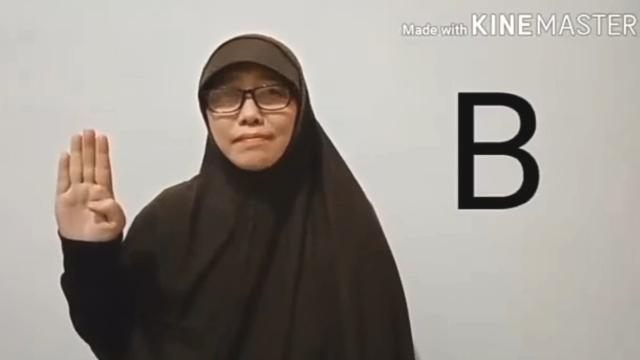B: (52, 127, 128, 246)
